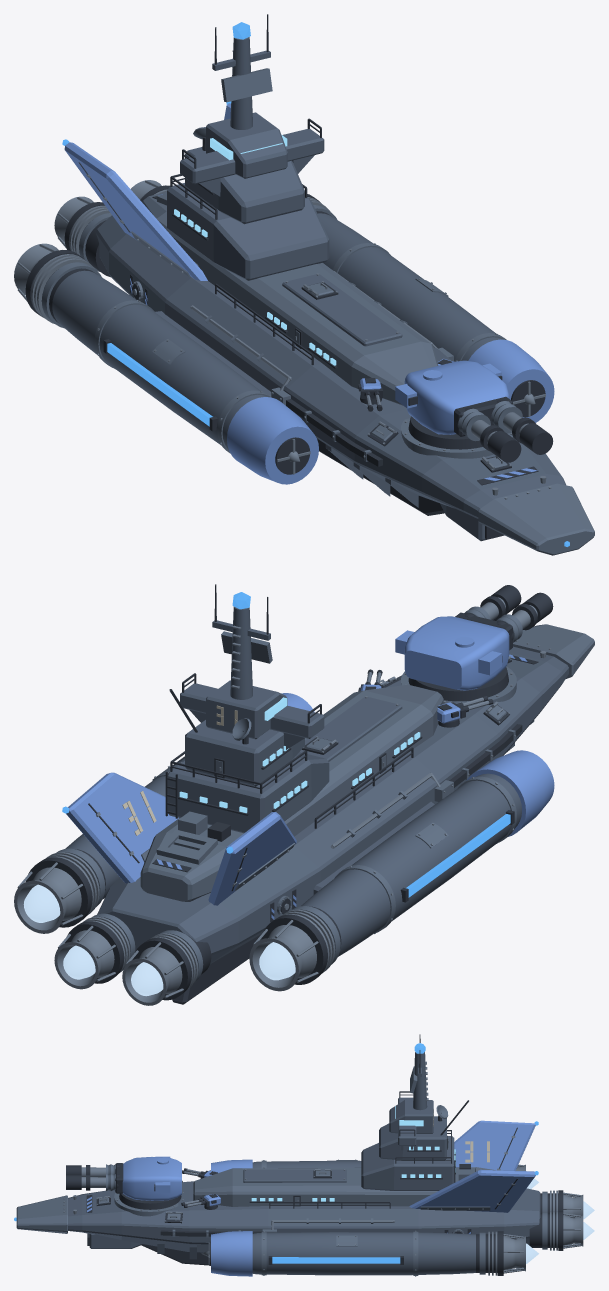
The model's file is horizon_cruiser.glb.
The picture shows the model from 3 angles, top to bottom: view 1: azimuth 30°, elevation 25°; view 2: azimuth 150°, elevation 25°; view 3: azimuth 270°, elevation 25°; orthographic projection. The views are drawn at different scales.
Parts seen in each view (by area): view 1: horizon_cruiser; view 2: horizon_cruiser; view 3: horizon_cruiser.
Boxes of the visible parts, x1=… form: horizon_cruiser: x1=14, y1=14, x2=594, y2=555; horizon_cruiser: x1=14, y1=584, x2=594, y2=1005; horizon_cruiser: x1=14, y1=1034, x2=594, y2=1276.
Size of the model in its own units: 3.03 by 3.55 by 8.12.
